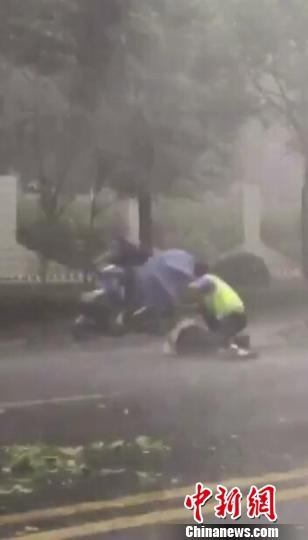falling: (160, 315, 240, 358)
